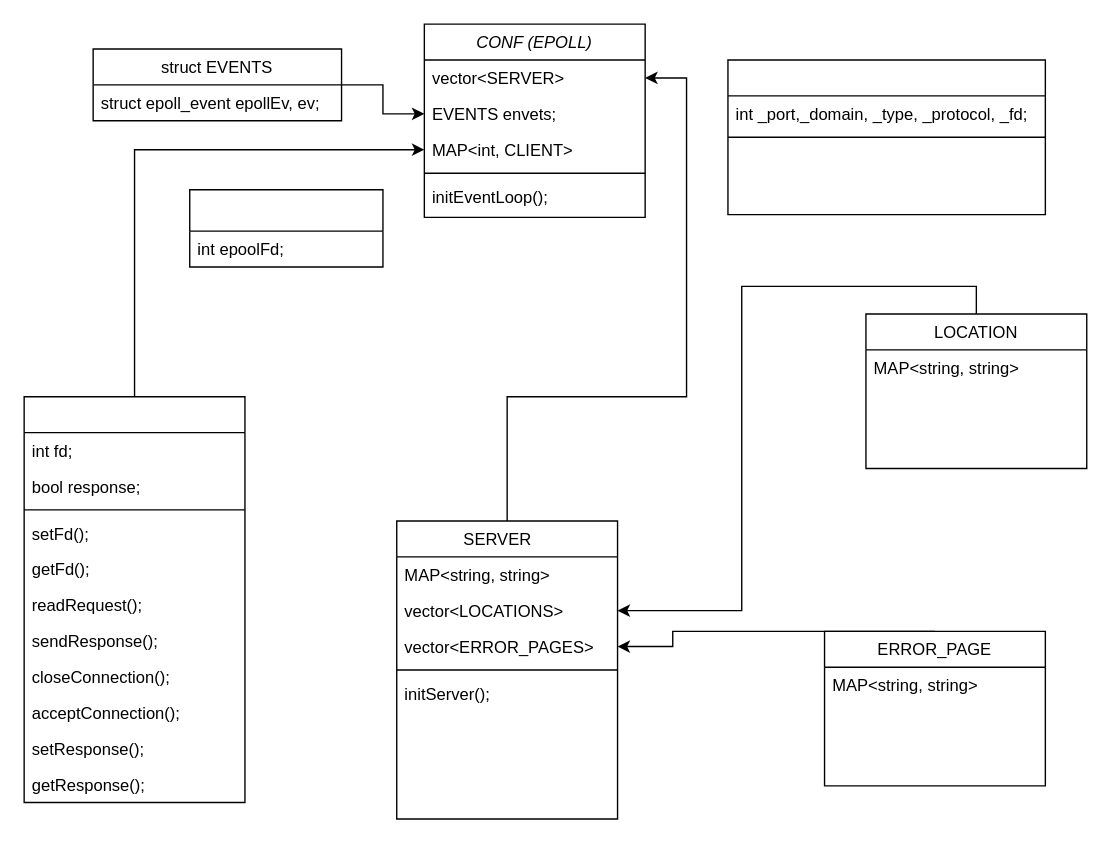
Some shapes in this 1111 by 843 pixel diagram are drawn without their labels. Each missing label, with the box of its shape:
CLIENT: (23, 395, 245, 802)
EPOLL: (188, 188, 383, 267)
SOCKETS: (727, 59, 1045, 215)
